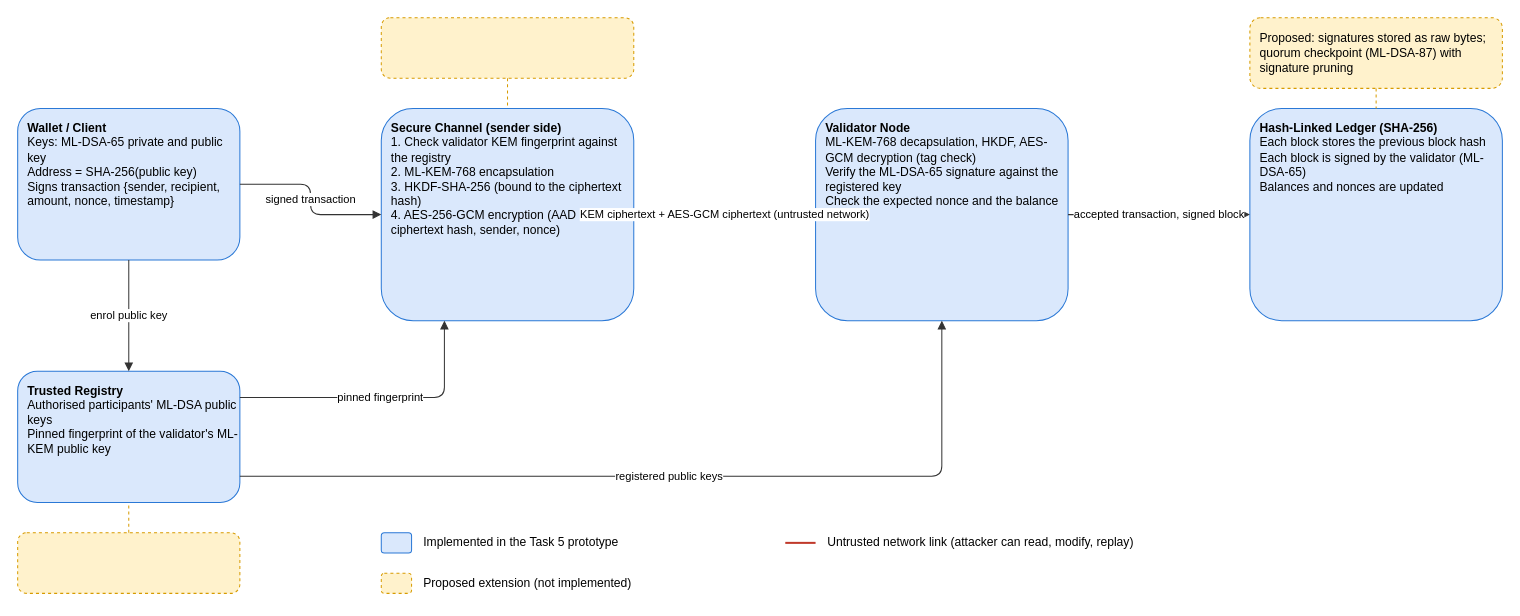
Image size: 1520x616. Some labels were removed from this diagram. Here are the shapes that lost their labels. From the top down, the centre of each, then its label:
At (507,47): "Proposed: hybrid key exchange (X25519 + ML-KEM-768)".
At (128,562): "Proposed: registry entries signed with ML-DSA-87".
